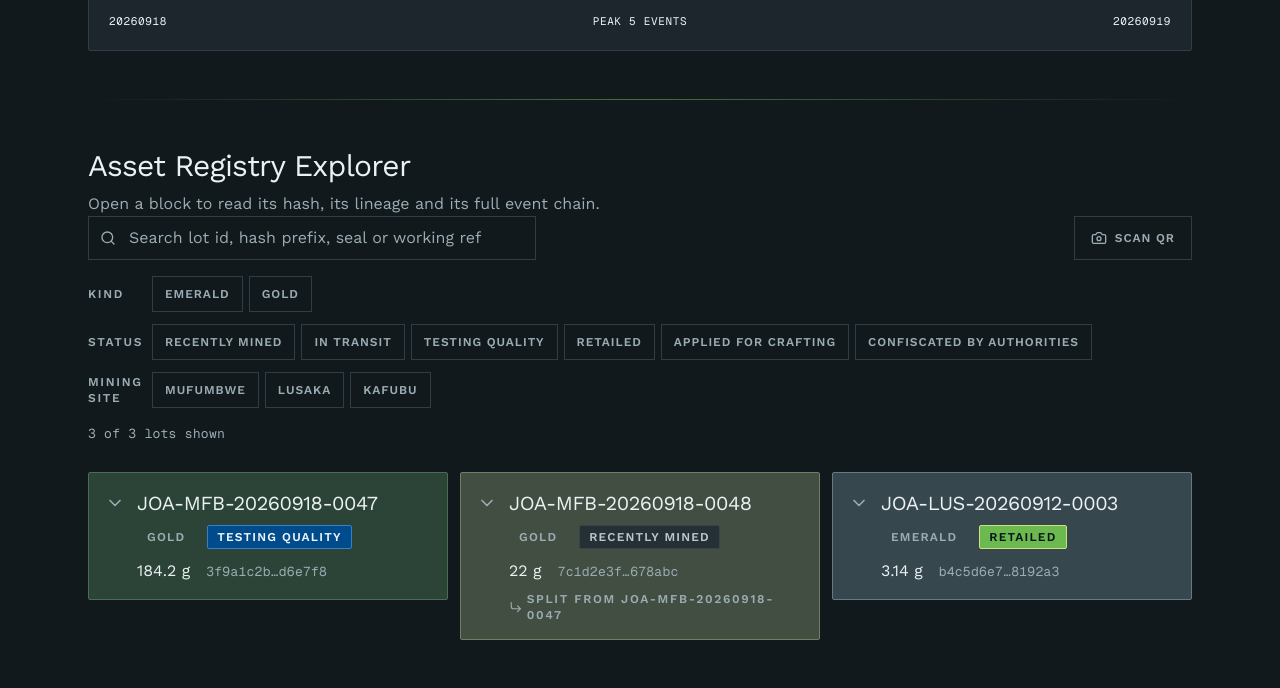
it: Library home page › narrows the library to the selected site's lots
(page scrolled)
Expected: the text "JOA-MFB-20260918-0047" is shown, [137,488,377,516]
Click the button with test id "register.filter.site.MFB" at (205, 390), box [152,372,259,408]
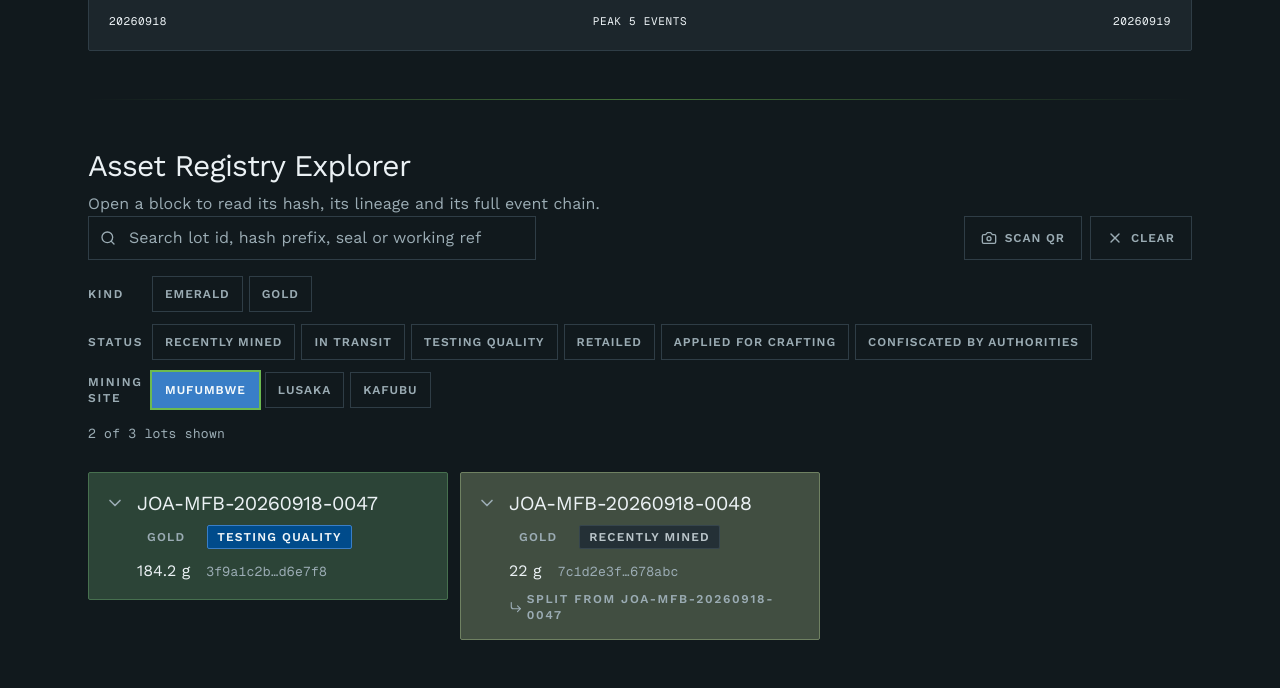
Expected: the text "JOA-MFB-20260918-0047" is shown, [137,488,377,516]
Now the text with test id "register.result_count" reads "2 of 3 lots shown", box [88,426,225,440]
Now the button "JOA-LUS-20260912-0003" is gone
